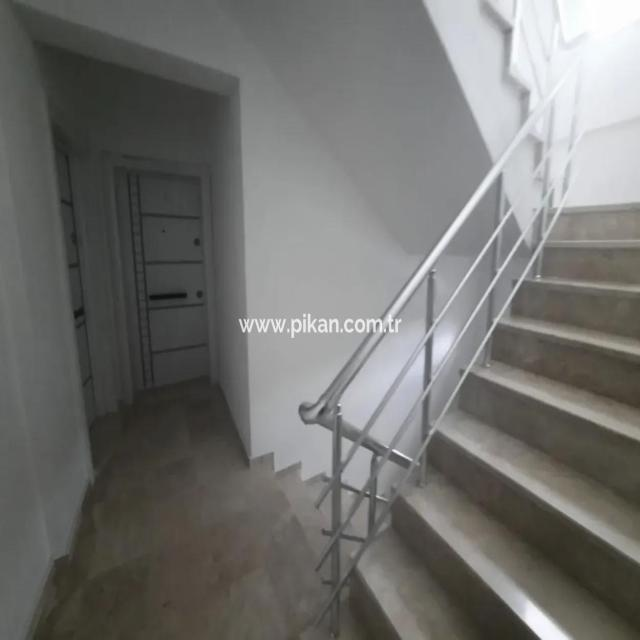stairs: (348, 200, 639, 638)
